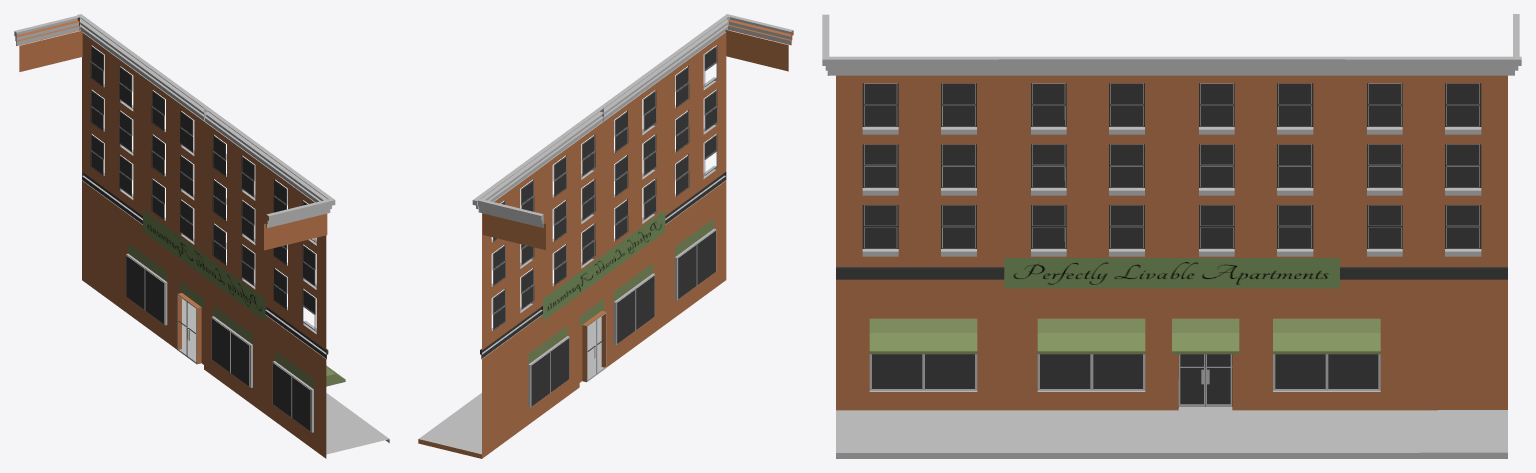
Rendered from FinalApartment.glb.
3 renders of one model, left to right at view 1: azimuth 30°, elevation 25°; view 2: azimuth 150°, elevation 25°; view 3: azimuth 270°, elevation 25°, orthographic. The views are drawn at different scales.
Parts seen in each view (by area): view 1: apartmentLATEST; view 2: apartmentLATEST; view 3: apartmentLATEST.
Part boxes in pixels (box(x1,y1,x2,y2)): apartmentLATEST: box(14, 14, 389, 458); apartmentLATEST: box(418, 14, 793, 458); apartmentLATEST: box(822, 14, 1521, 458).
Bounding box in the file's own units: 6 × 11.81 × 20.81.
5 materials, 1 textured.
